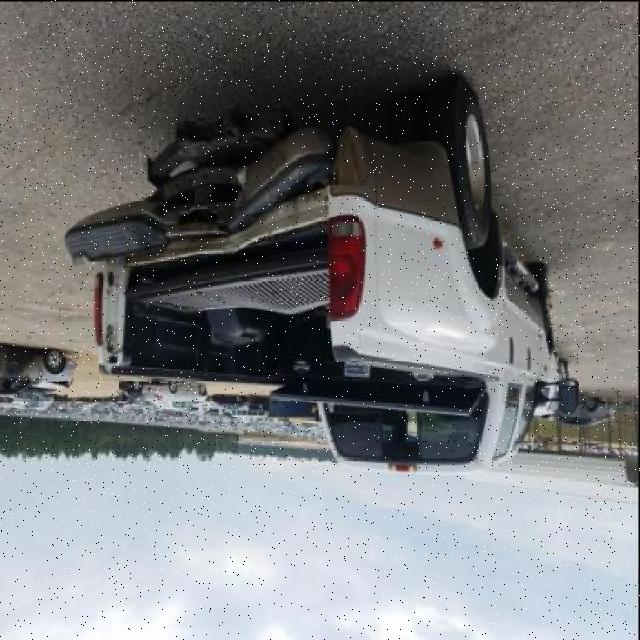damage: (65, 124, 368, 272)
